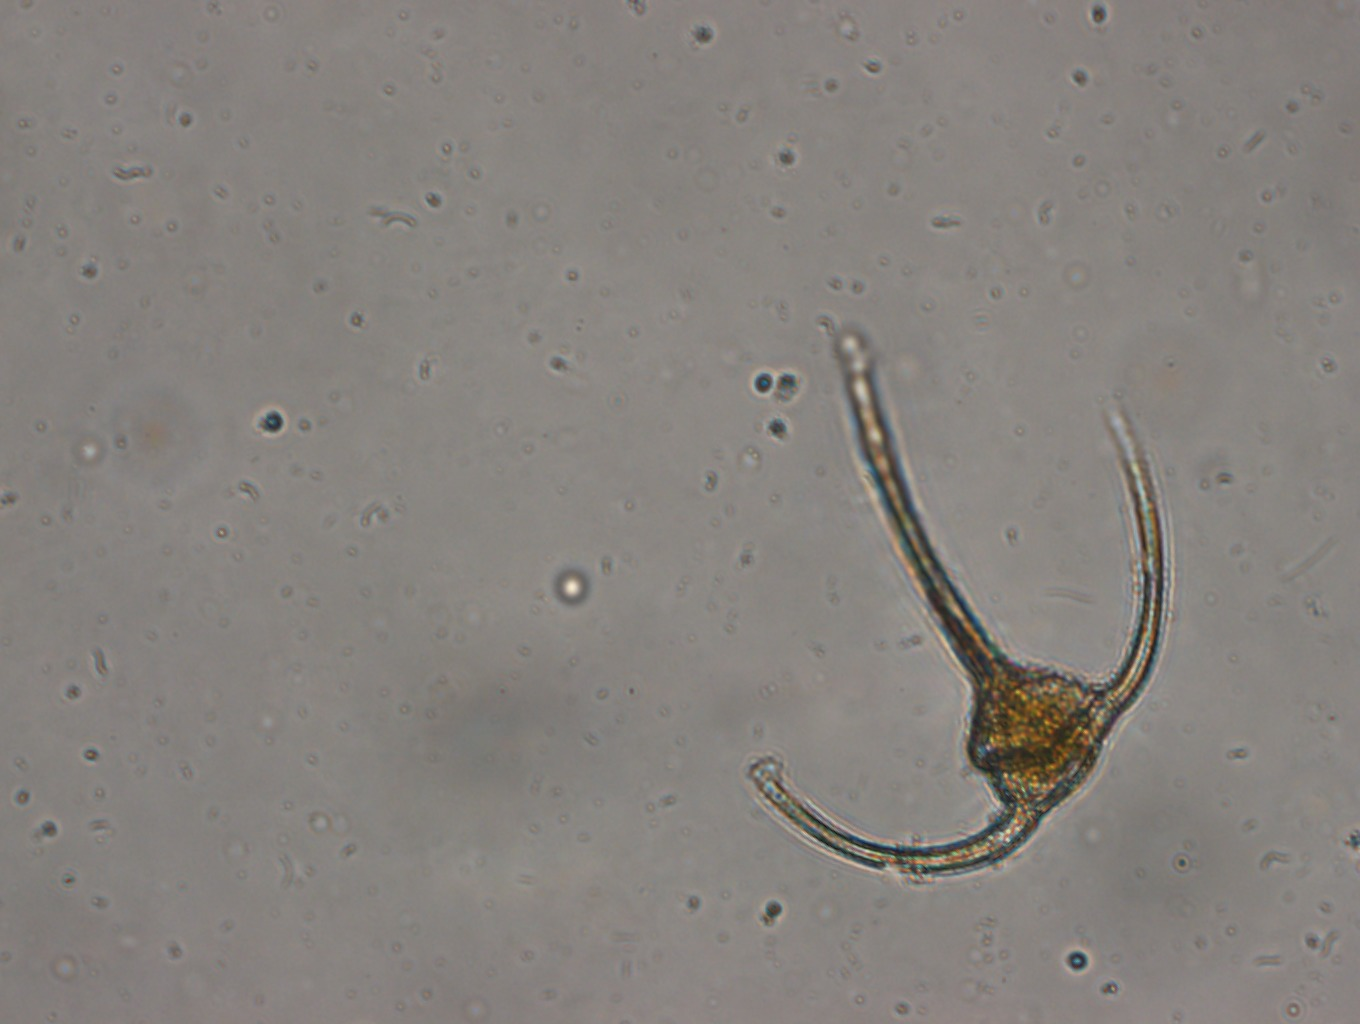ceratium trichoceros: (728, 322, 1179, 885)
